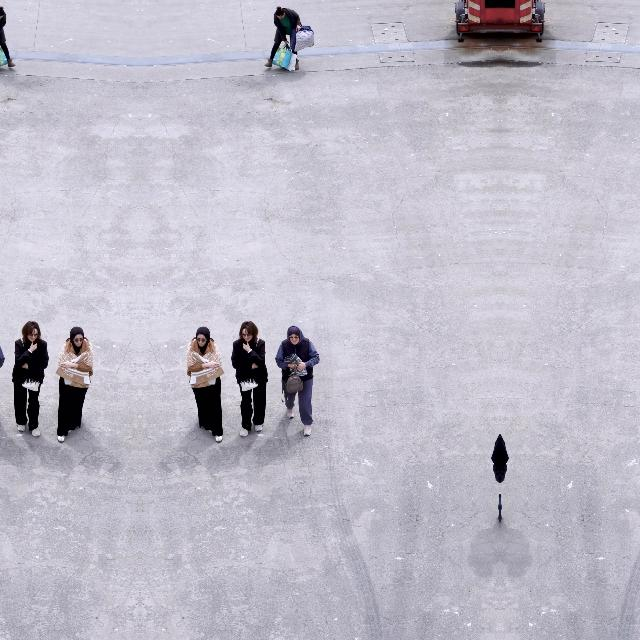person: (276, 326, 320, 436), (187, 326, 225, 444), (55, 326, 93, 444), (232, 321, 268, 437), (12, 321, 48, 437), (264, 6, 304, 70), (0, 6, 15, 70), (492, 432, 501, 524), (499, 432, 508, 524), (0, 325, 4, 436)
